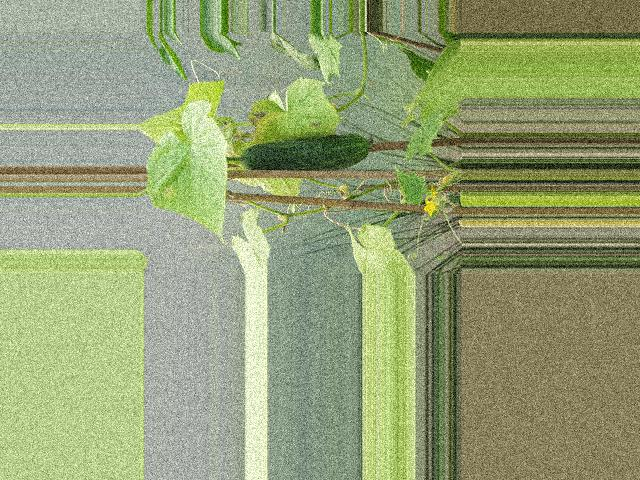cucumber: (241, 133, 372, 171)
